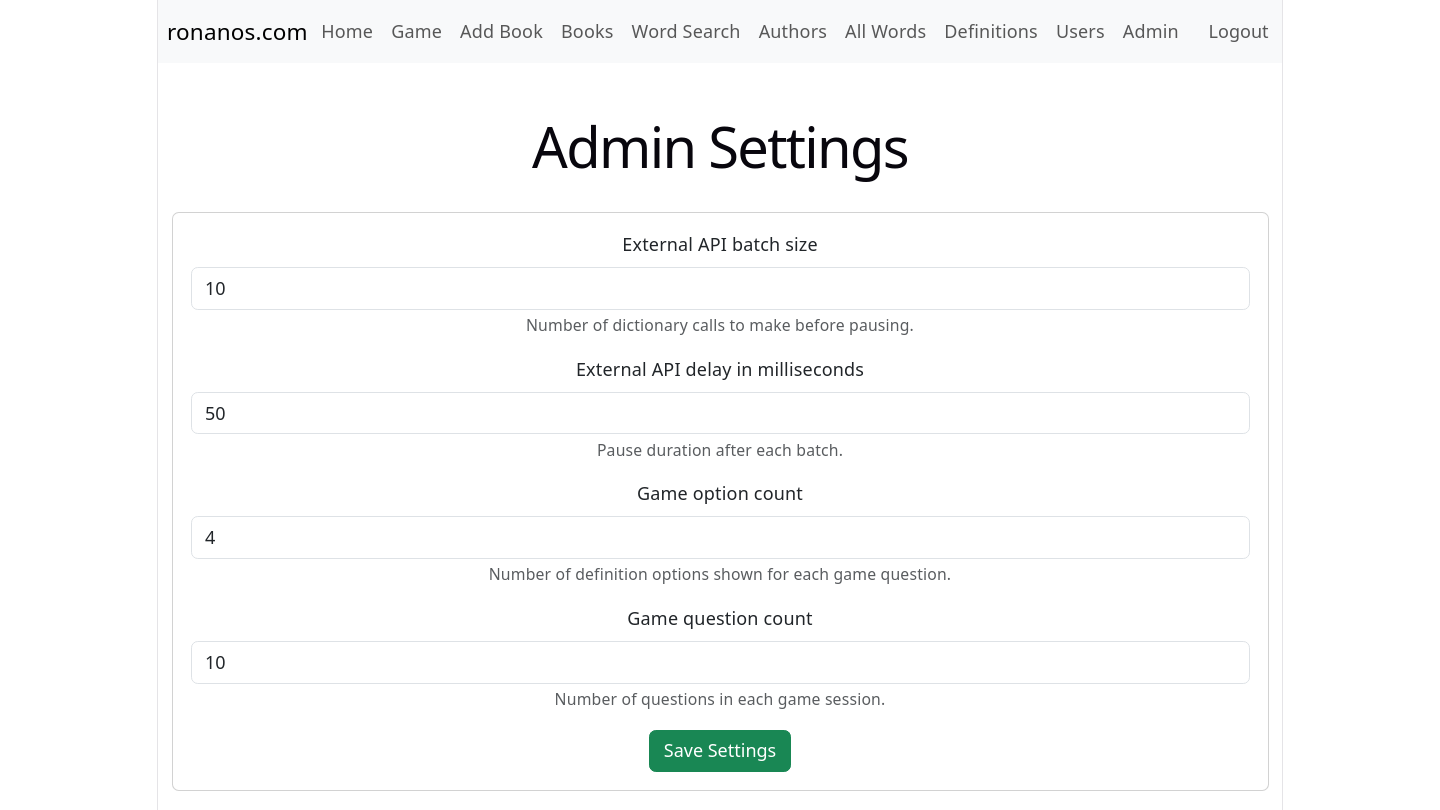
Scenario: AdminSettings › loads and saves external API throttle settings
The image size is (1440, 810).
Replace the text in the number field labelled "External API batch size" with "5" at (720, 288), box x1=190 y1=267 x2=1250 y2=310
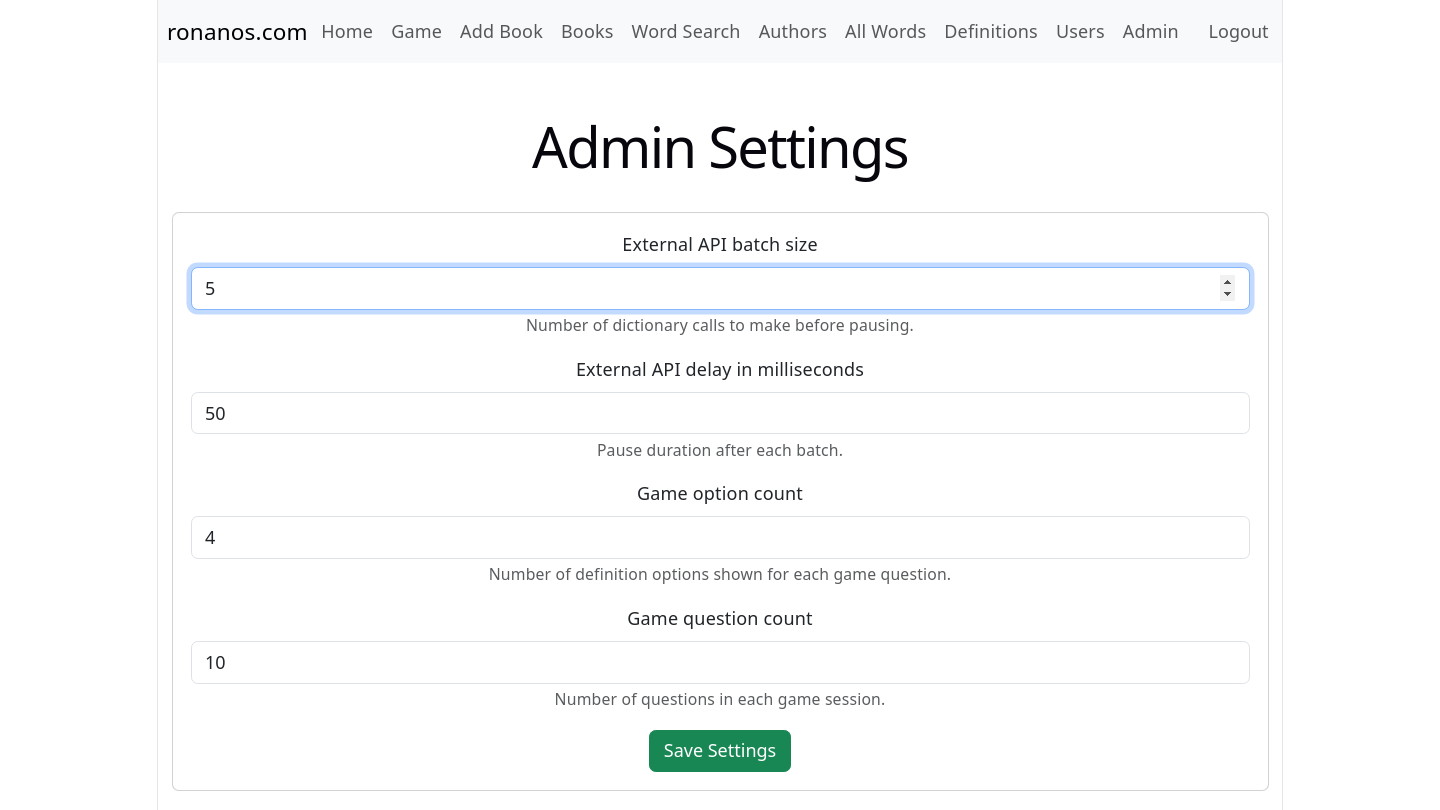
Replace the text in the number field labelled "External API delay in milliseconds" with "100" at (720, 413), box x1=190 y1=392 x2=1250 y2=434
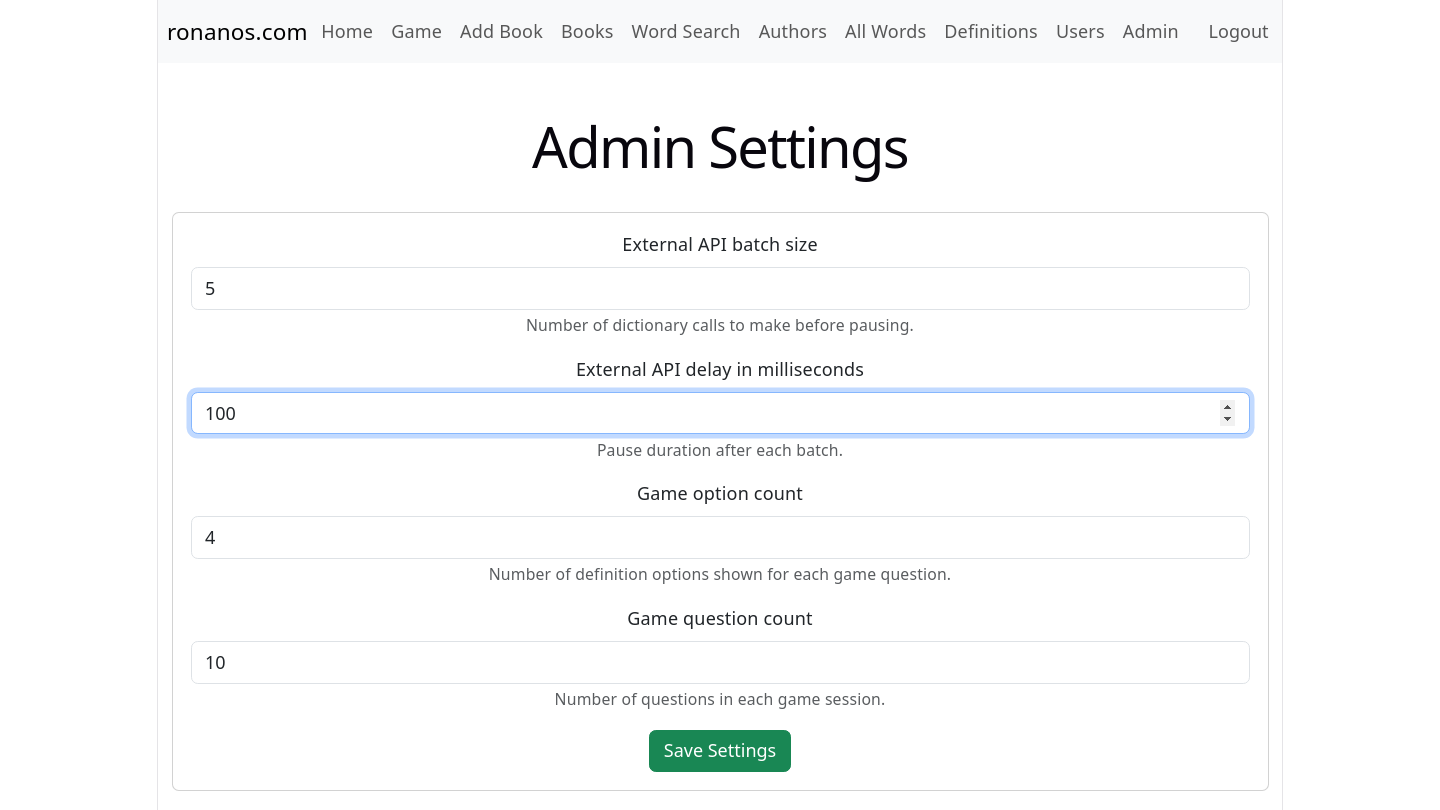
Replace the text in the number field labelled "Game option count" with "6" at (720, 538), box x1=190 y1=516 x2=1250 y2=559
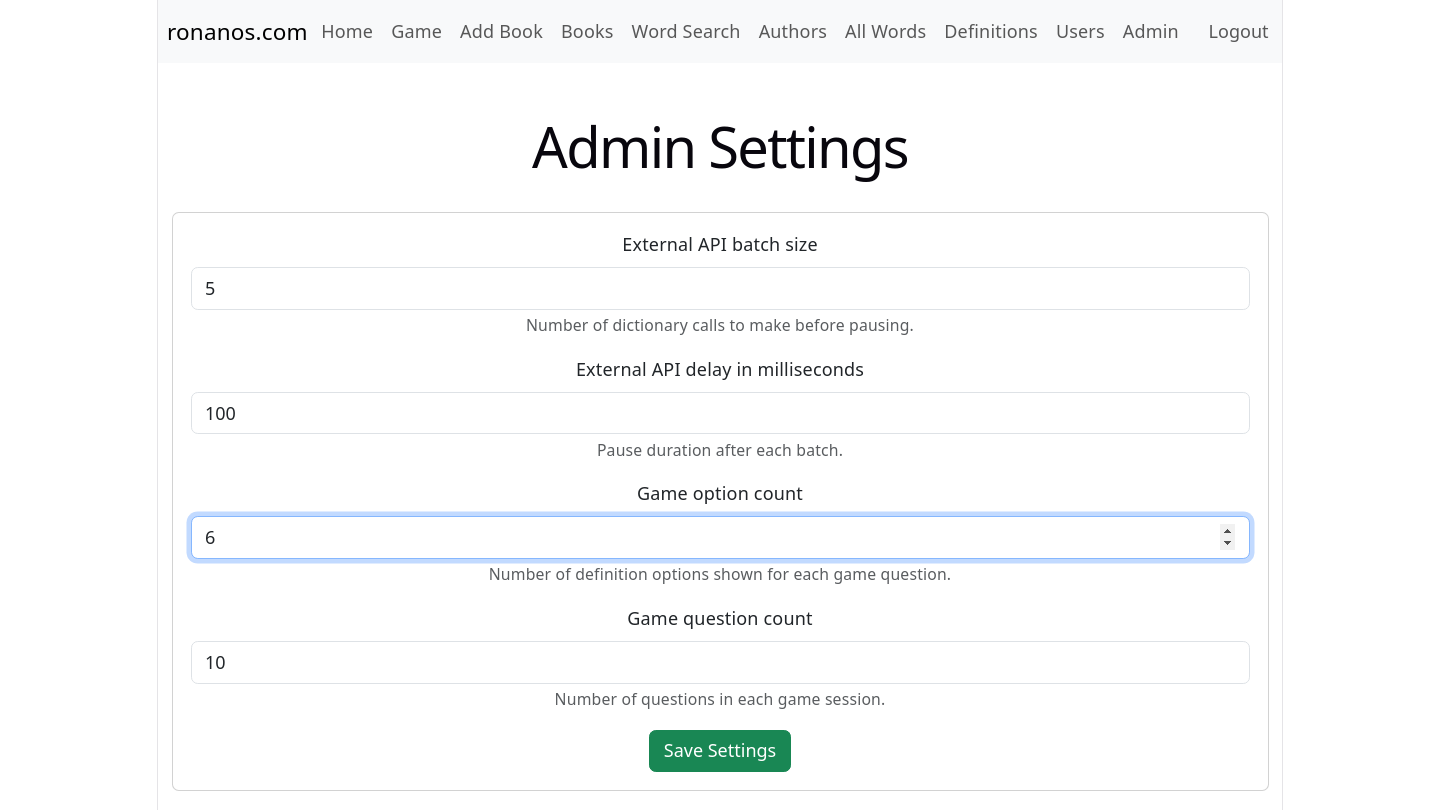
Replace the text in the number field labelled "Game question count" with "12" at (720, 662), box x1=190 y1=641 x2=1250 y2=684
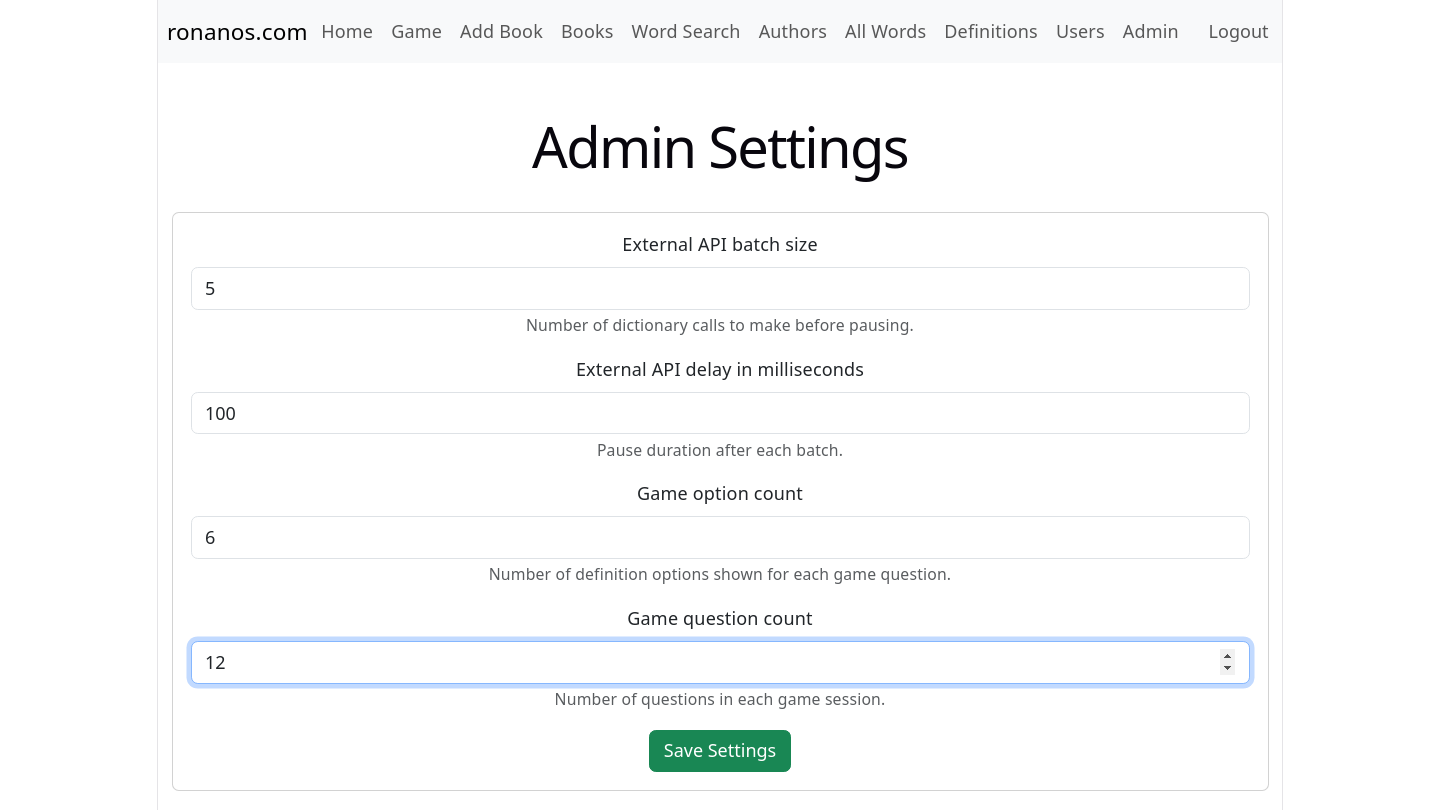
Click the button "Save Settings" at (720, 751), box x1=649 y1=730 x2=791 y2=772
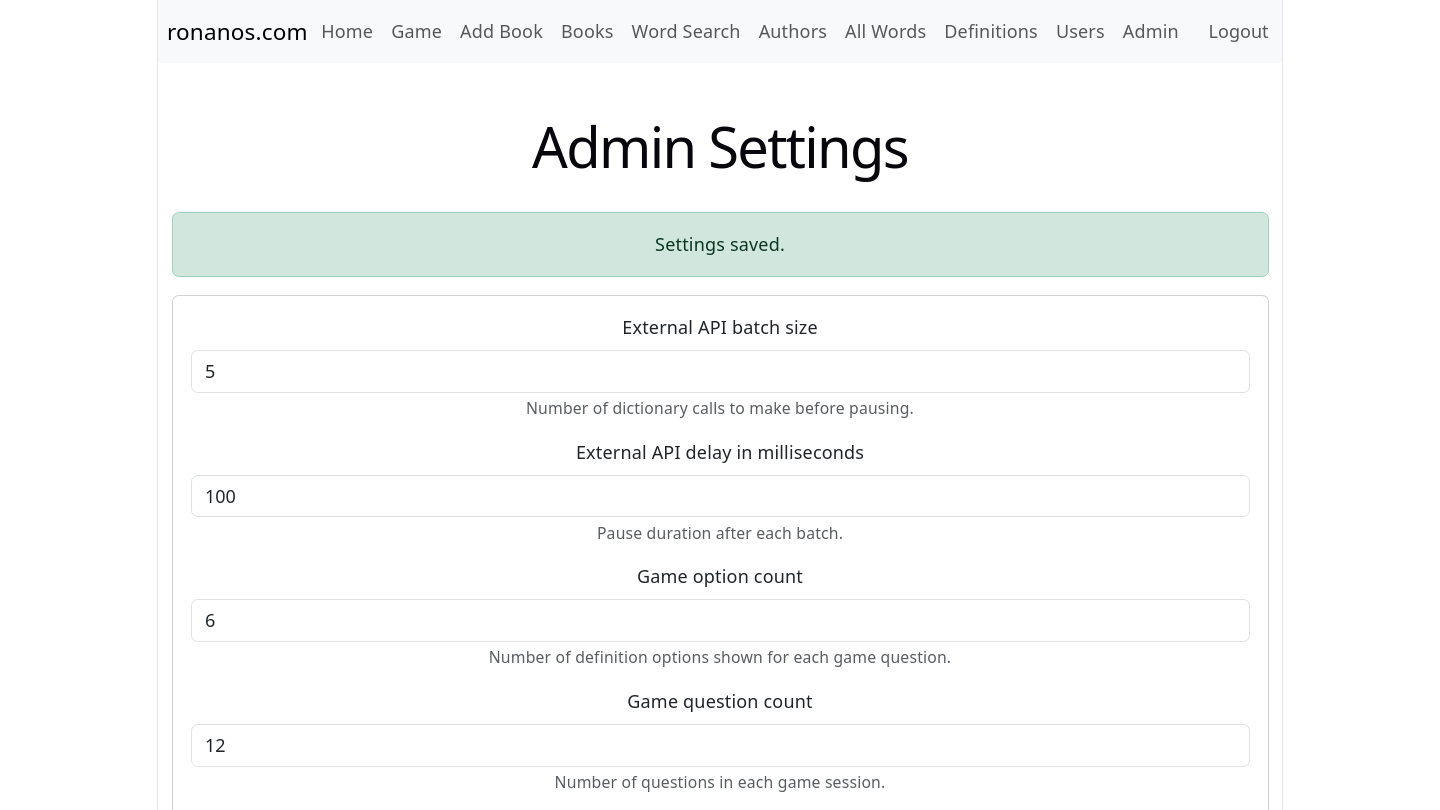
Result: the text "Settings saved." is shown at x1=172 y1=212 x2=1268 y2=277
